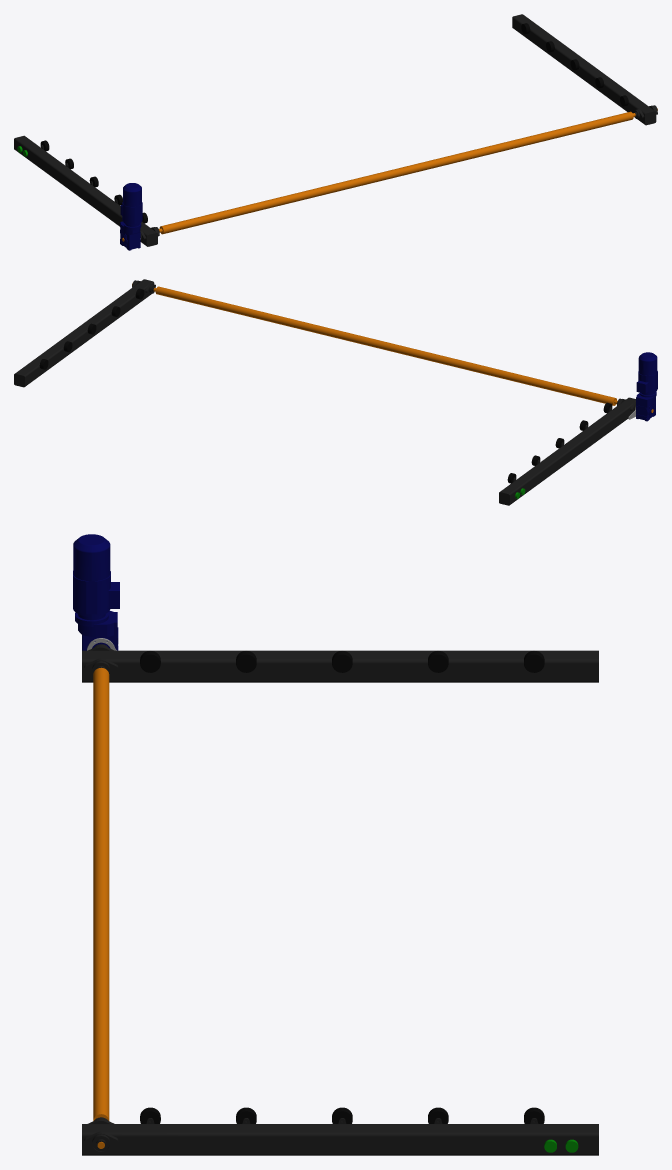
The model's file is SHELF-S-1.obj.
The picture shows the model from 3 angles, top to bottom: view 1: azimuth 30°, elevation 25°; view 2: azimuth 150°, elevation 25°; view 3: azimuth 270°, elevation 25°; orthographic projection. The views are drawn at different scales.
Visible parts, largest first — view 1: Mesh.005; view 2: Mesh.005; view 3: Mesh.005.
Boxes of the visible parts, x1,y1,x2,y2 form: Mesh.005: (14, 14, 657, 250); Mesh.005: (14, 279, 657, 505); Mesh.005: (73, 534, 598, 1155).
Size of the model in its own units: 5668 by 634 by 2478.
